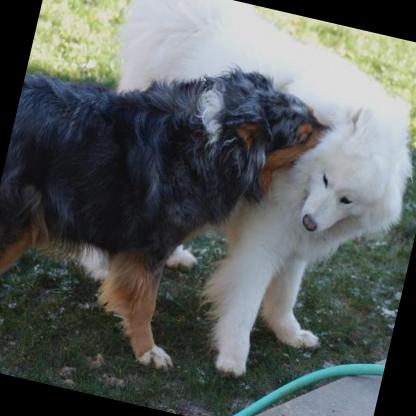Samoyed: (48, 0, 416, 401)
